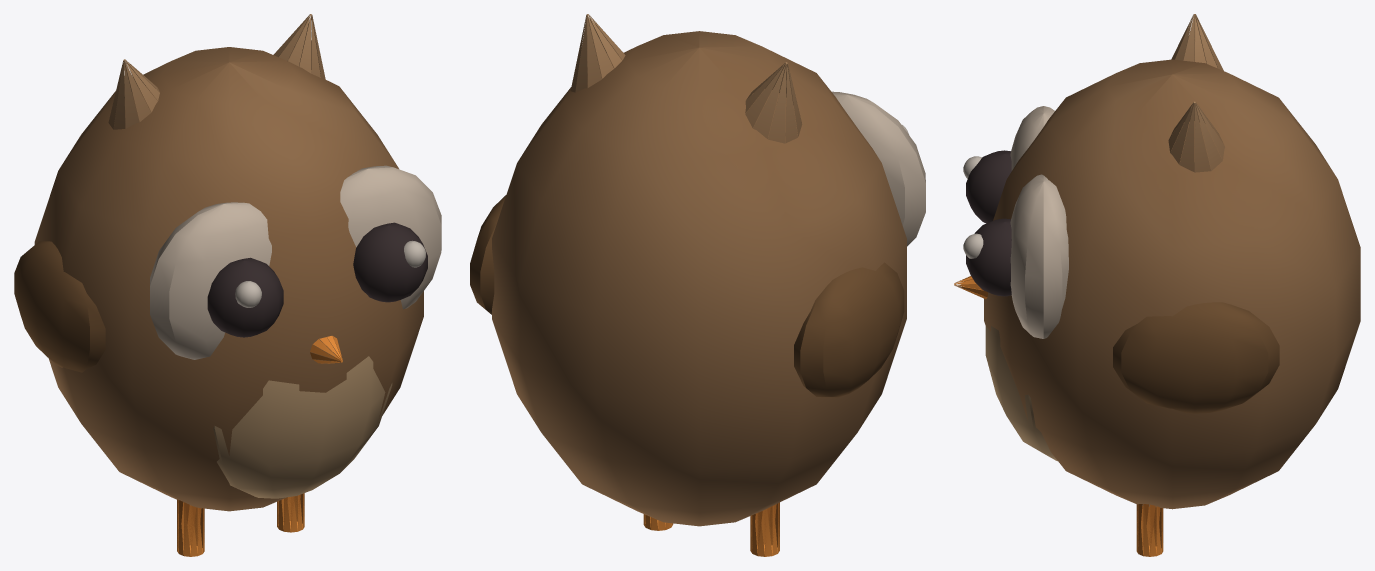
The picture shows the model from 3 angles, left to right: view 1: azimuth 30°, elevation 25°; view 2: azimuth 150°, elevation 25°; view 3: azimuth 270°, elevation 25°; orthographic projection. The views are drawn at different scales.
Visible parts, largest first — view 1: pet_pd2822067; view 2: pet_pd2822067; view 3: pet_pd2822067.
Part boxes in pixels (x1,y1,x2,y2): pet_pd2822067: (14,14,441,556); pet_pd2822067: (470,14,925,556); pet_pd2822067: (954,14,1360,556).
Size of the model in its own units: 0.362 by 0.4633 by 0.3634.
